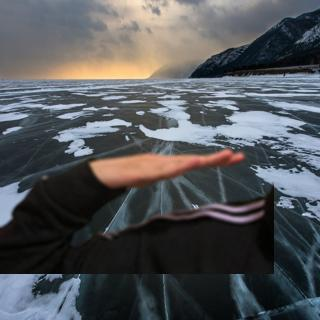Wait: (90, 140, 247, 196)
